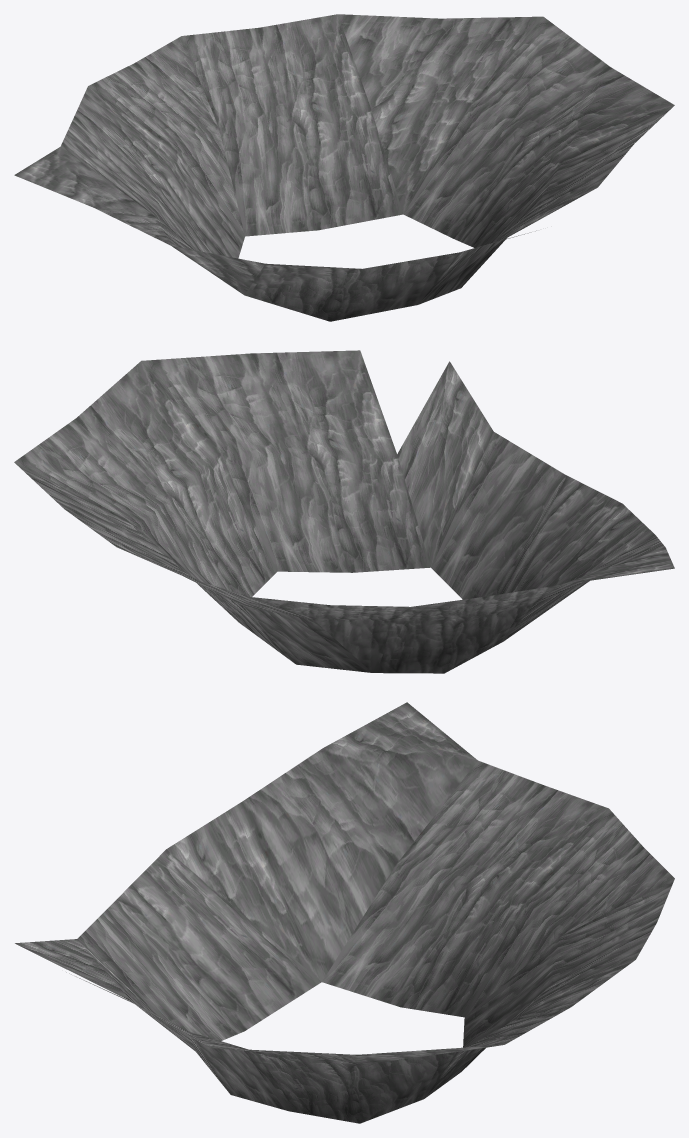
File: SWORDLIGHT20_PS-AREA04_14.fbx
3 renders of one model, top to bottom at view 1: azimuth 30°, elevation 25°; view 2: azimuth 150°, elevation 25°; view 3: azimuth 270°, elevation 25°, orthographic. The views are drawn at different scales.
Visible parts, largest first — view 1: SWORDLIGHT20_PS-AREA04_14; view 2: SWORDLIGHT20_PS-AREA04_14; view 3: SWORDLIGHT20_PS-AREA04_14.
Part boxes in pixels (box(x1,y1,x2,y2)): SWORDLIGHT20_PS-AREA04_14: box(14, 14, 674, 321); SWORDLIGHT20_PS-AREA04_14: box(14, 350, 674, 673); SWORDLIGHT20_PS-AREA04_14: box(15, 702, 674, 1123).
Bounding box in the file's own units: 169587 × 44002 × 141830.
Materials: 1 (1 with a texture image).
